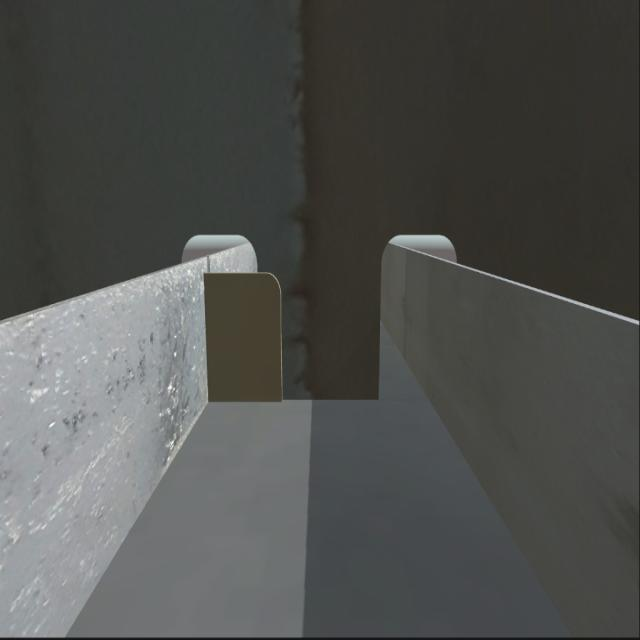fillet_yong_jeop_jang: (204, 384, 384, 413)
longi_yong_jeop_jang: (196, 266, 214, 404)
plate_CP05: (203, 269, 284, 400)
